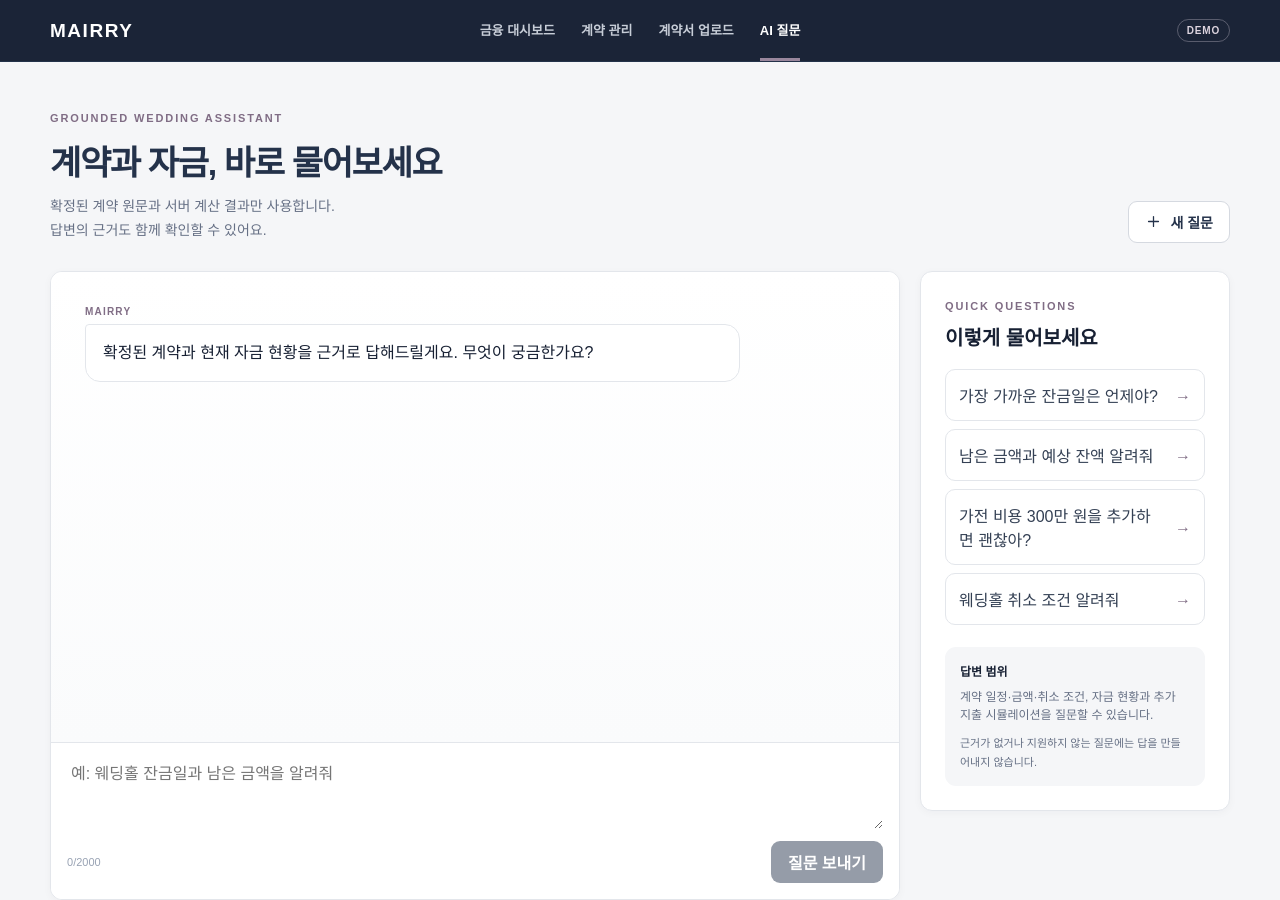
it: ChatPage › renders general chat without a misleading missing-evidence notice
The width and height of the screenshot is (1280, 900).
Type "안녕" into the text box named "AI 플래너에게 질문하기" at (475, 794), box [67,759,883,829]
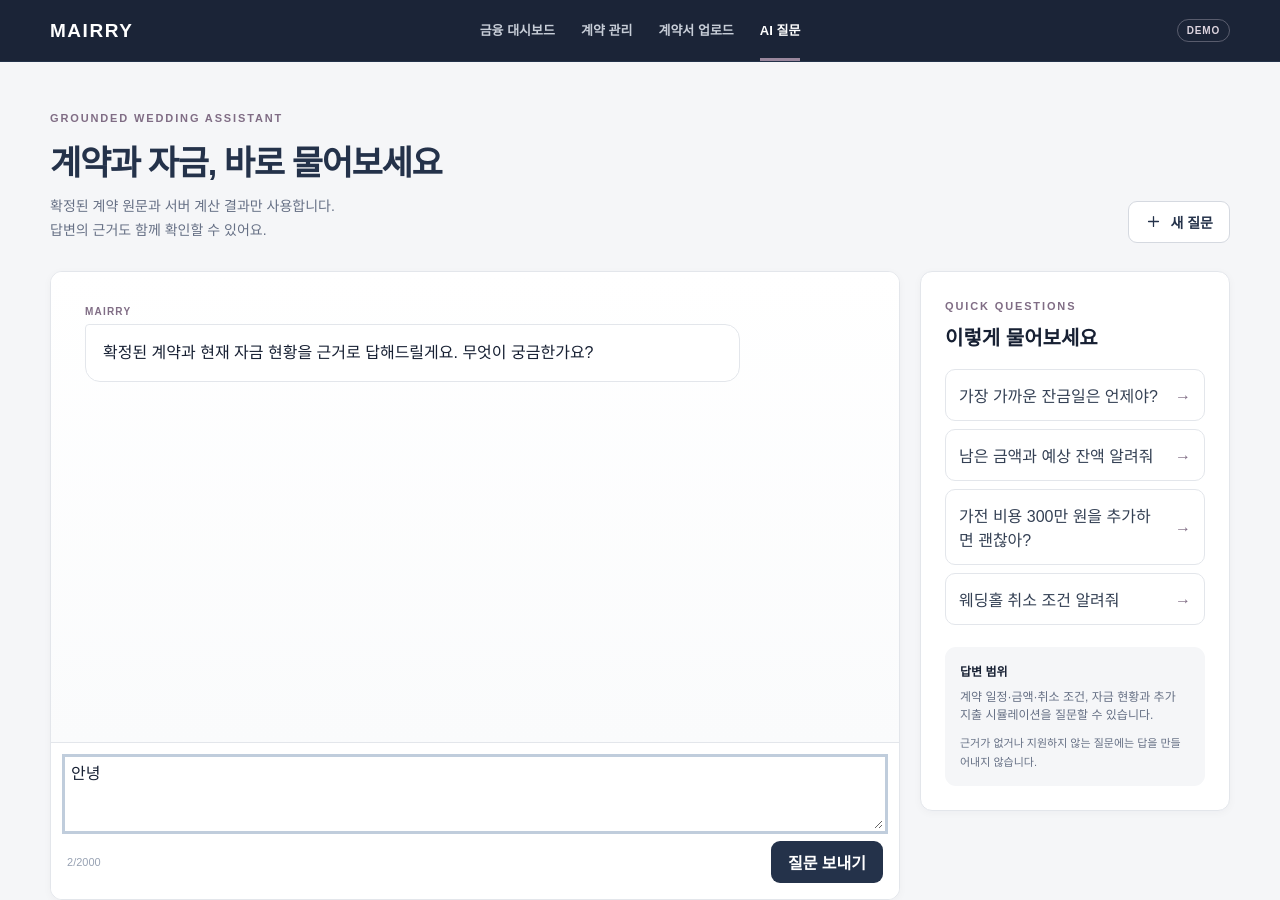
Click the button "질문 보내기" at (827, 862), box [771,841,883,883]
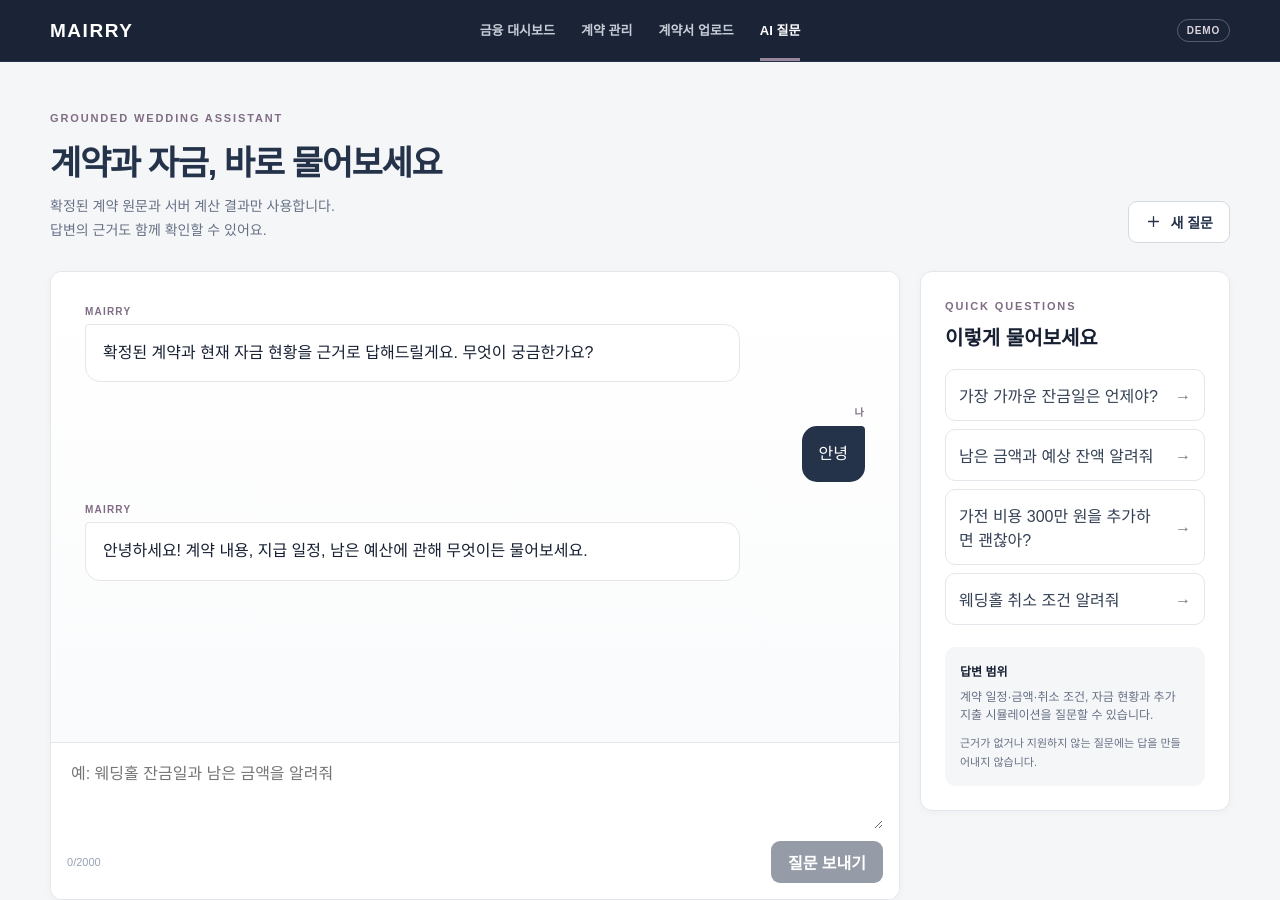
Now the text "안녕하세요! 계약 내용, 지급 일정, 남은 예산에 관해 무엇이든 물어보세요." is shown, box [103,542,588,559]
